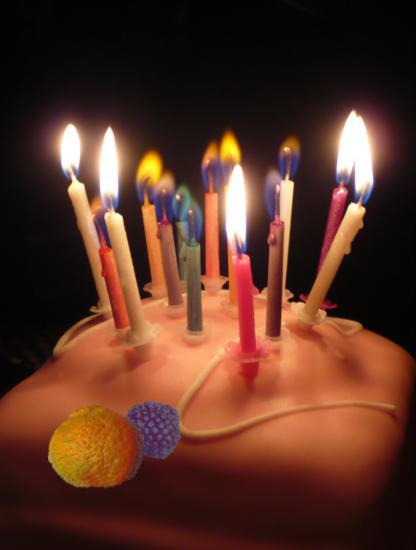Mandarine: (47, 399, 146, 498)
Raspberry: (124, 400, 182, 458)
